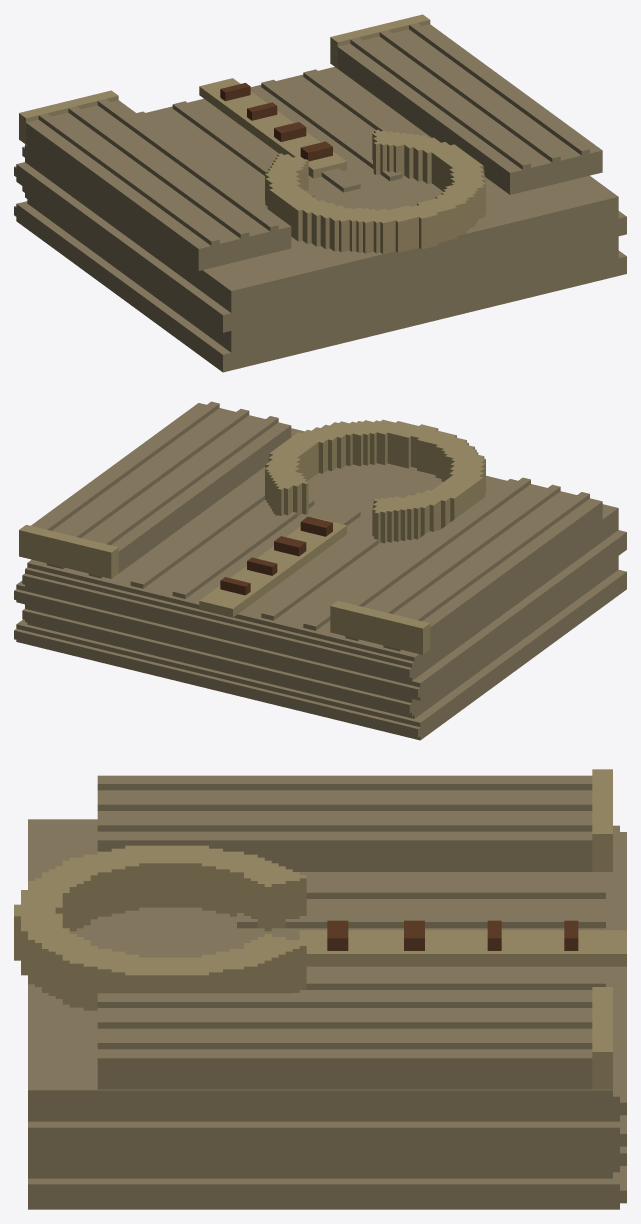
Rendered from aketon_canvas.glb.
3 renders of one model, top to bottom at view 1: azimuth 30°, elevation 25°; view 2: azimuth 150°, elevation 25°; view 3: azimuth 270°, elevation 25°, orthographic. The views are drawn at different scales.
Parts seen in each view (by area): view 1: aketon_canvas:compound; view 2: aketon_canvas:compound; view 3: aketon_canvas:compound.
Boxes of the visible parts, box(x1,y1,x2,y2) form: aketon_canvas:compound: box(14, 14, 626, 372); aketon_canvas:compound: box(14, 401, 626, 740); aketon_canvas:compound: box(14, 769, 626, 1209).
Bounding box in the file's own units: 0.384 × 0.1 × 0.352.
